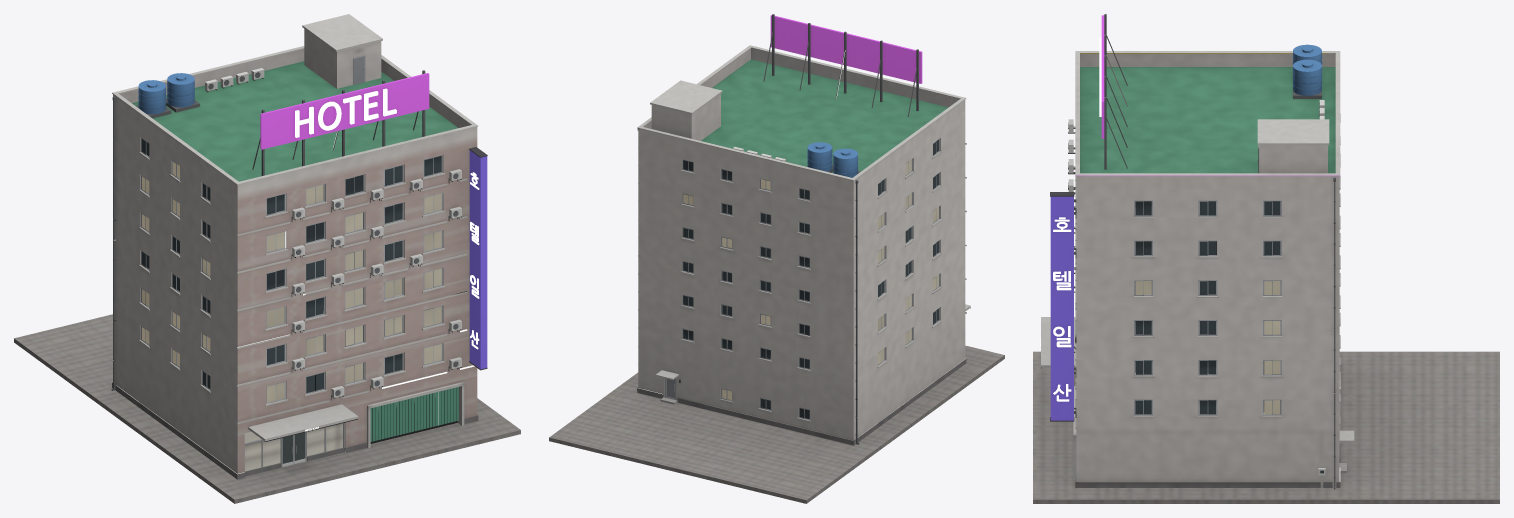
Rendered from IlsanMotel01_LOD1.fbx.
The picture shows the model from 3 angles, left to right: view 1: azimuth 30°, elevation 25°; view 2: azimuth 150°, elevation 25°; view 3: azimuth 270°, elevation 25°; orthographic projection. The views are drawn at different scales.
Parts seen in each view (by area): view 1: IlsanMotel01_LOD1; view 2: IlsanMotel01_LOD1; view 3: IlsanMotel01_LOD1.
Part boxes in pixels (x1,y1,x2,y2): IlsanMotel01_LOD1: [14, 14, 520, 503]; IlsanMotel01_LOD1: [549, 14, 1004, 503]; IlsanMotel01_LOD1: [1033, 14, 1499, 503].
Bounding box in the file's own units: 23.9 × 28.2 × 31.9.
Materials: 1 (1 with a texture image).
